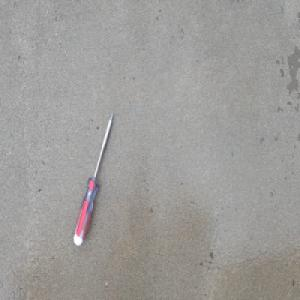Screwdriver: (72, 110, 115, 248)
